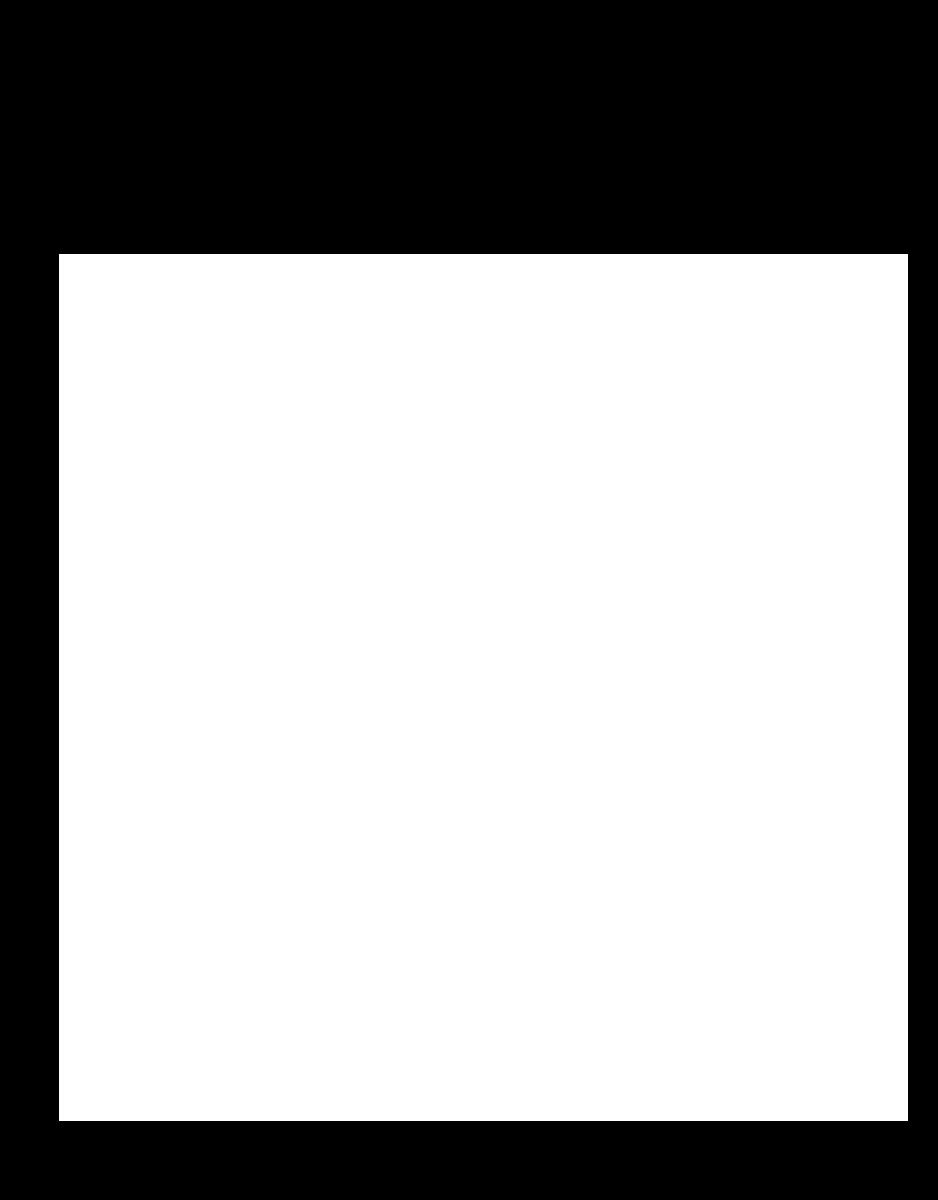table: (59, 254, 908, 1121)
